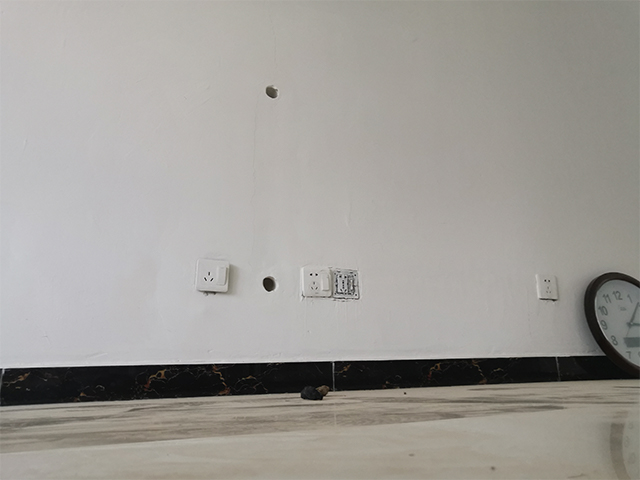feces: (299, 383, 330, 402)
